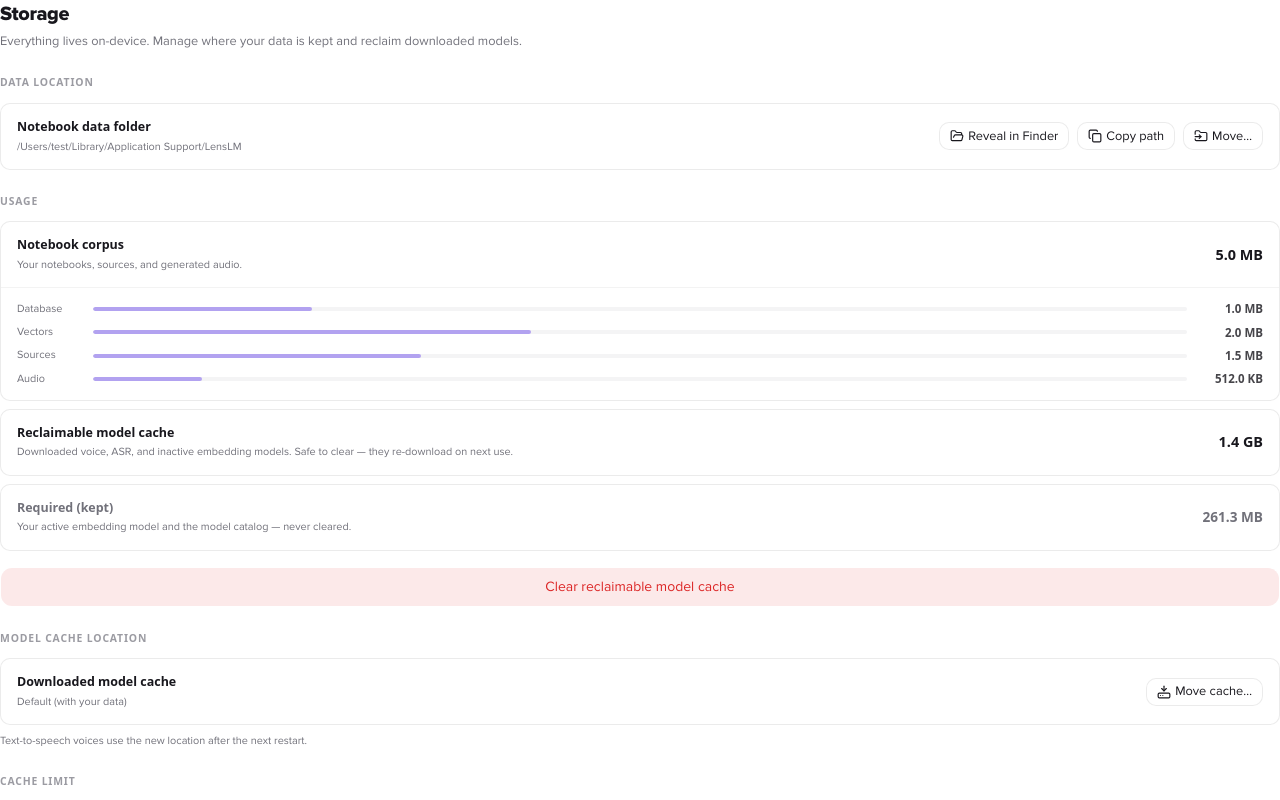
Test: StorageSection › clears the model cache and refetches stats after confirming
The image size is (1280, 800).
Expected: the text "1.4 GB" is shown, left=1219, top=431, right=1263, bottom=453
Click the button "Clear reclaimable model cache" at (640, 587), box left=0, top=567, right=1279, bottom=607
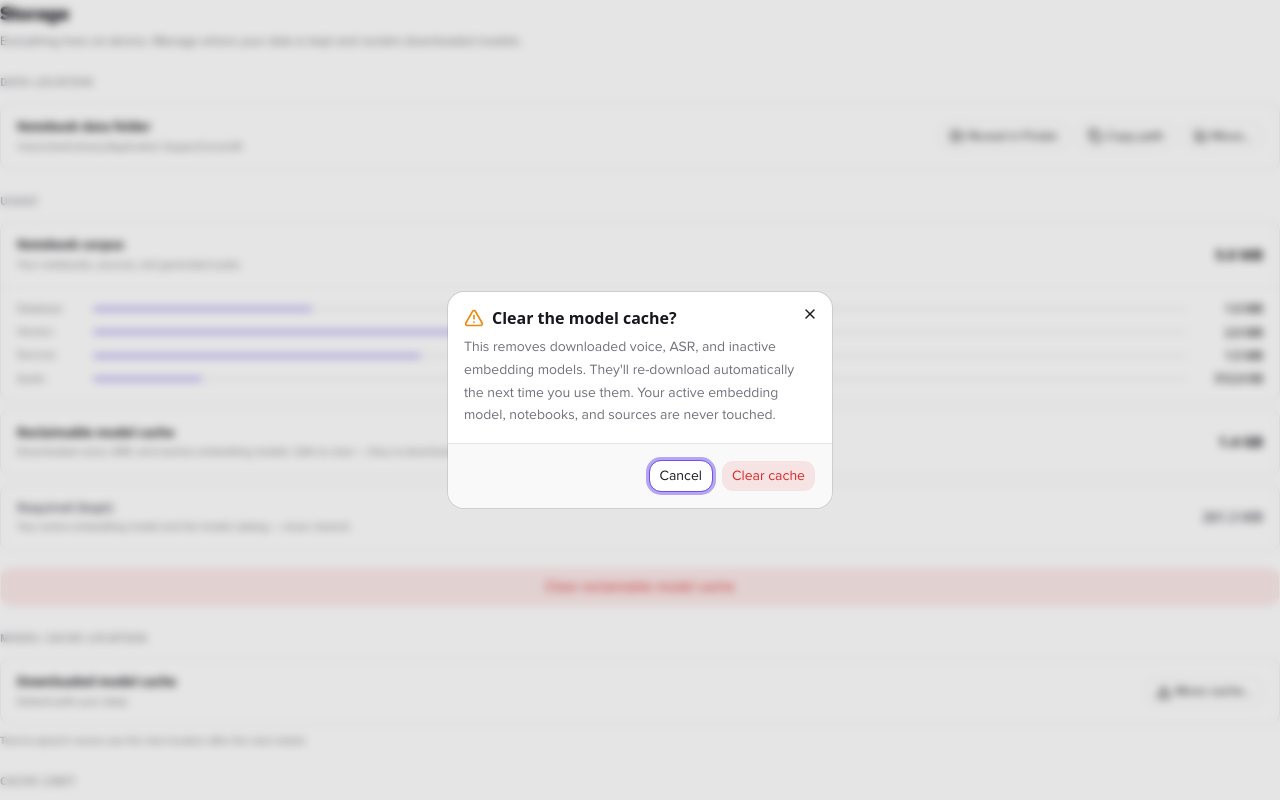
Click the button with aria-label "confirm clear model cache" at (768, 476), box left=721, top=460, right=816, bottom=492
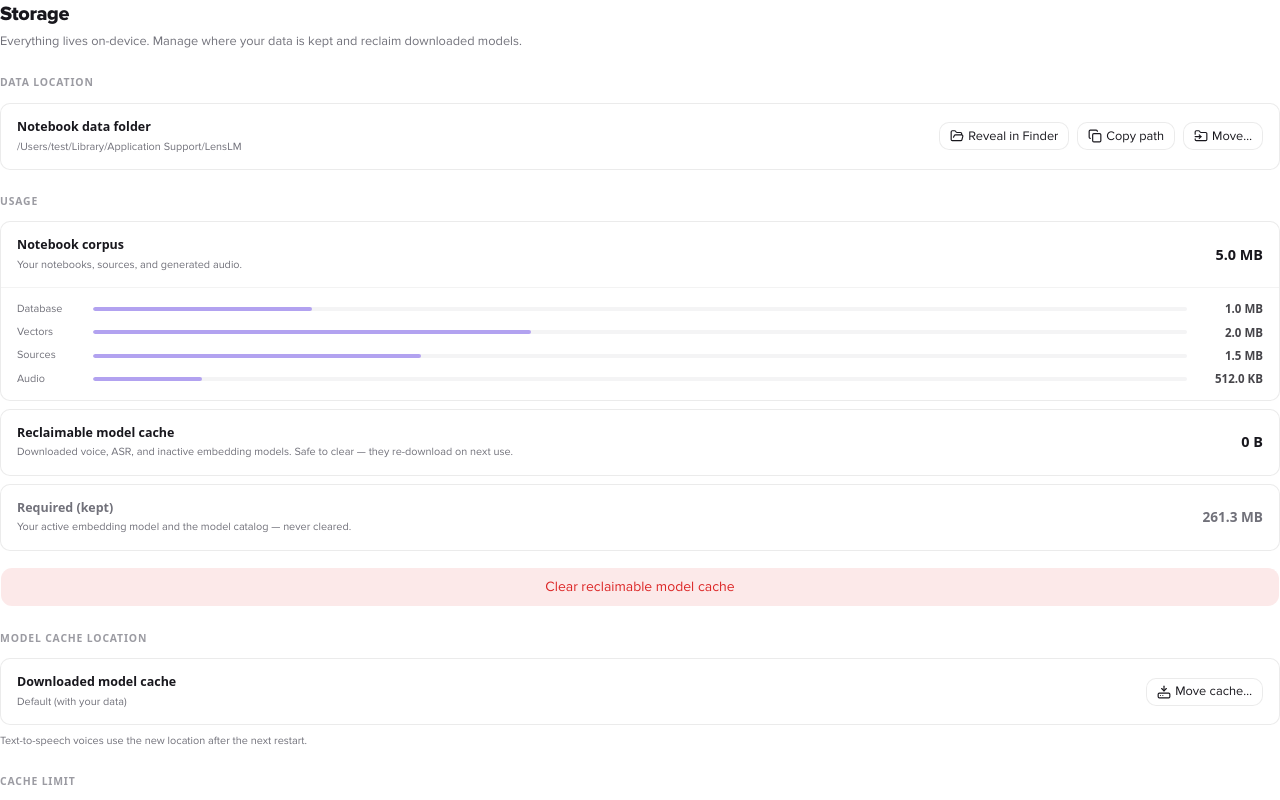
Result: the text "0 B" is shown at left=1241, top=431, right=1263, bottom=453
